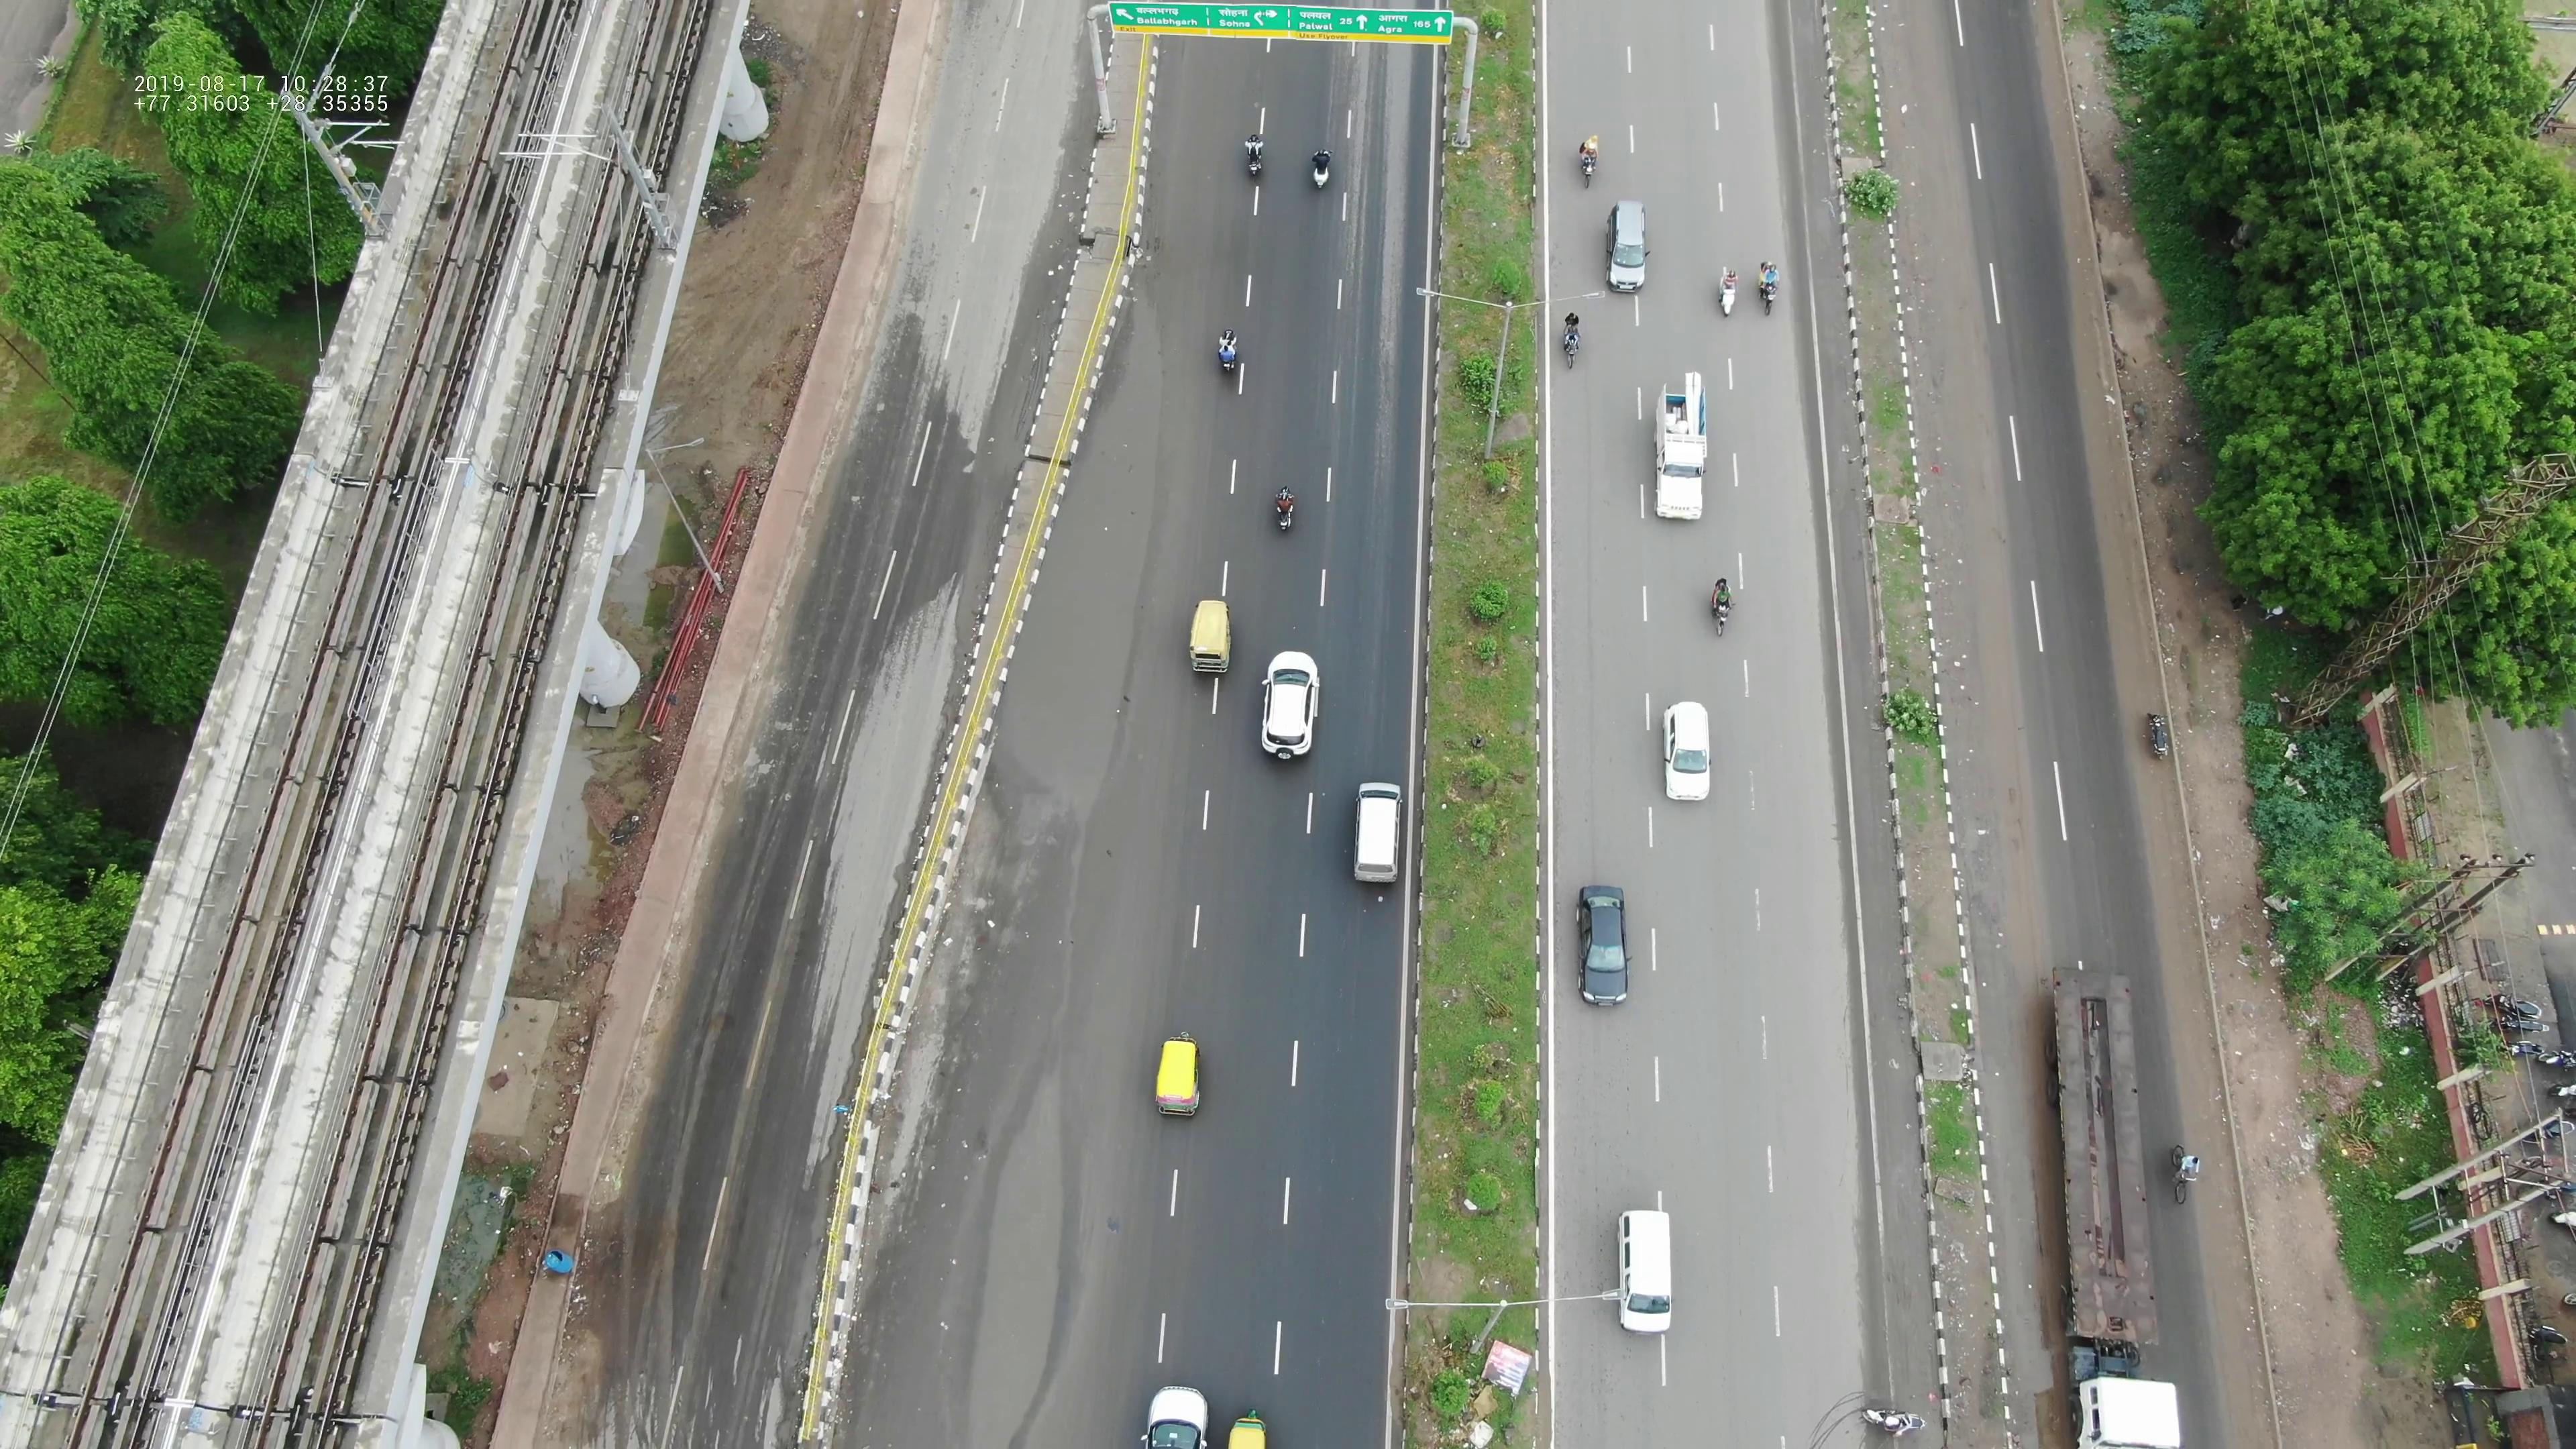Muddy_road: (1911, 297, 2013, 610), (1948, 630, 2047, 941), (1884, 21, 1976, 295)
Potholes: (950, 1035, 1093, 1426)
Waterlogging: (1007, 334, 1166, 832)
